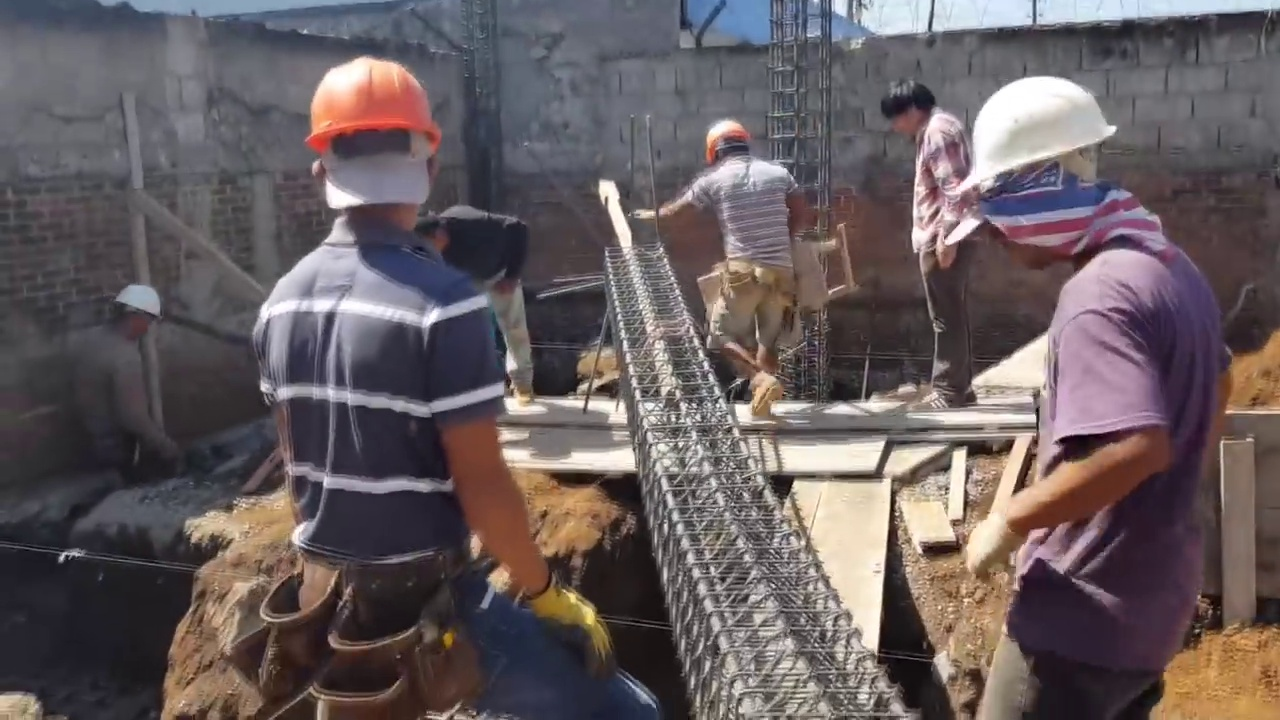helmet: (967, 74, 1116, 188), (295, 55, 438, 166), (702, 114, 754, 160), (113, 285, 162, 321)
helmet-off: (881, 79, 936, 139)
helmet-on: (967, 71, 1156, 277), (292, 46, 442, 241), (107, 284, 162, 339), (702, 115, 755, 170)
person: (236, 52, 600, 720), (960, 73, 1229, 716), (648, 116, 811, 413), (880, 72, 1001, 414), (421, 191, 552, 405), (74, 283, 165, 483)
